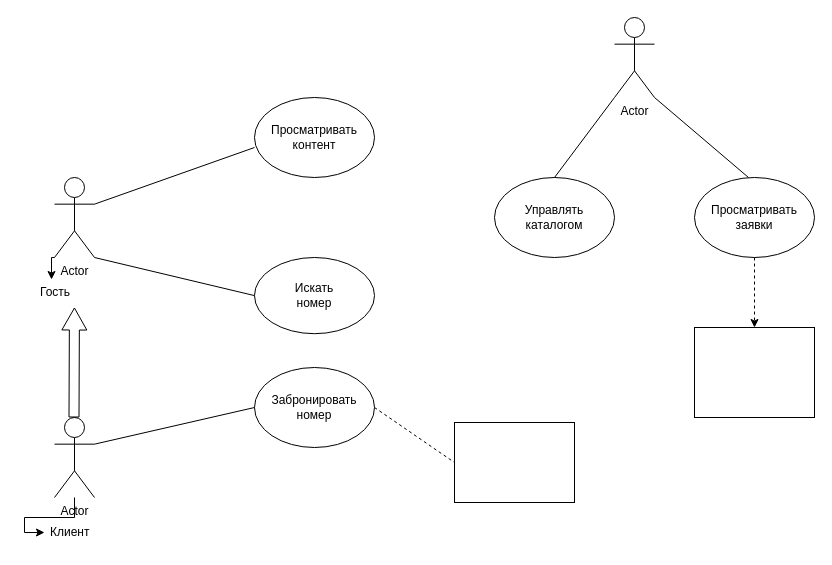
Some shapes in this 832 by 565 pixel diagram are drawn without their labels. Each missing label, with the centre of its shape:
Ввести данные и даты: (x=514, y=462)
Изменить статус заявки: (x=754, y=372)
